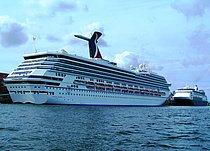Ship: (3, 29, 176, 110)
